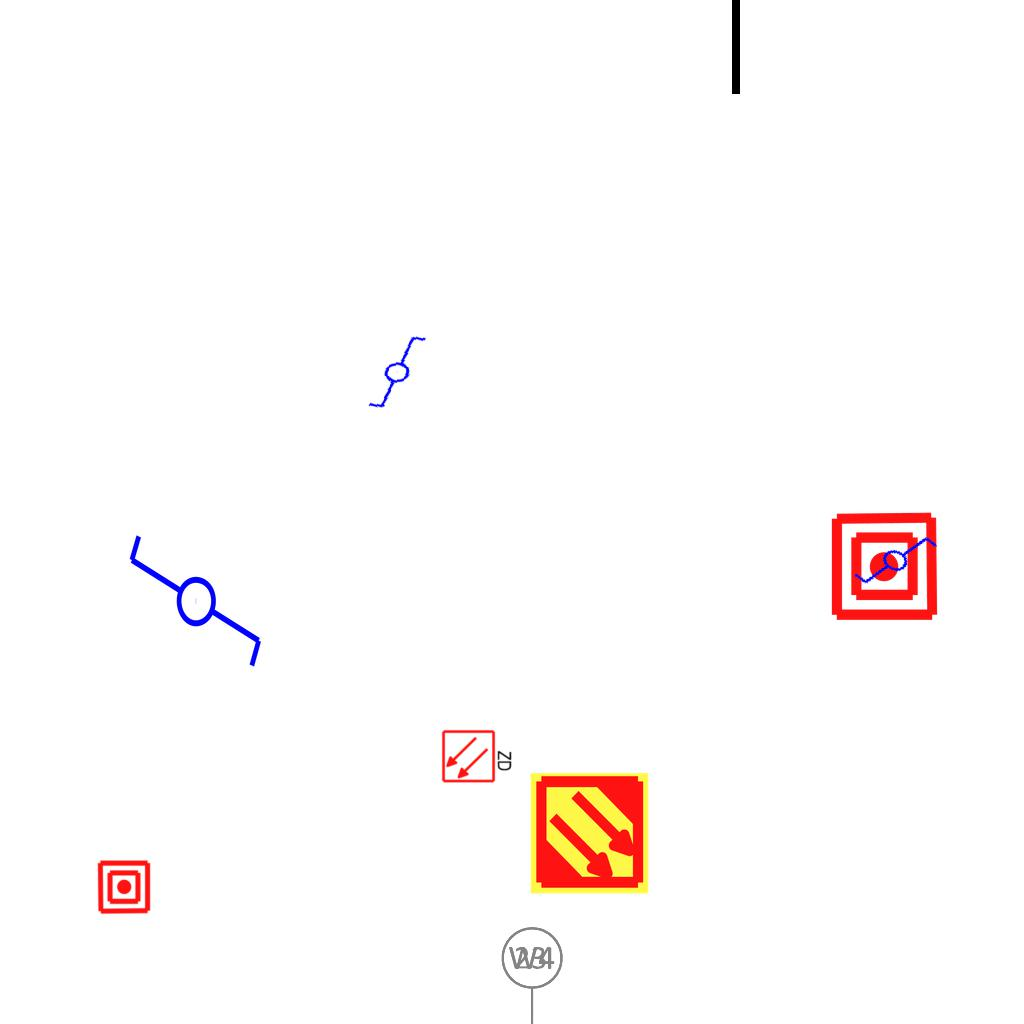ASR_Ansaugrauchmelder: (527, 771, 652, 896)
NAM-Nichtautomatischer_Melder: (828, 510, 941, 623), (96, 859, 152, 915)
Wechselschalter: (122, 531, 266, 688), (842, 510, 942, 606), (349, 330, 437, 414)
ZD_Melder_in_Zwischendecke_mit_Revisionsoeffnung_mind_40_x_40_cm: (441, 727, 515, 784)
